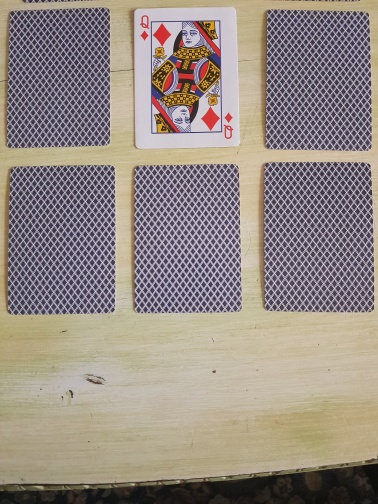queen: (133, 7, 241, 150)
